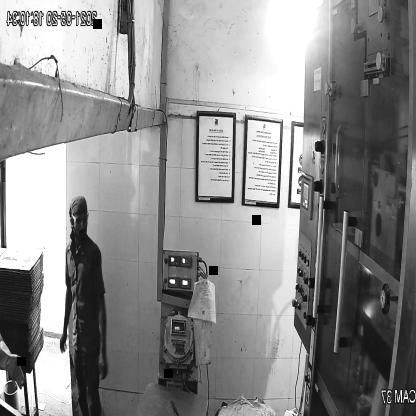goggles: (70, 213, 90, 228)
